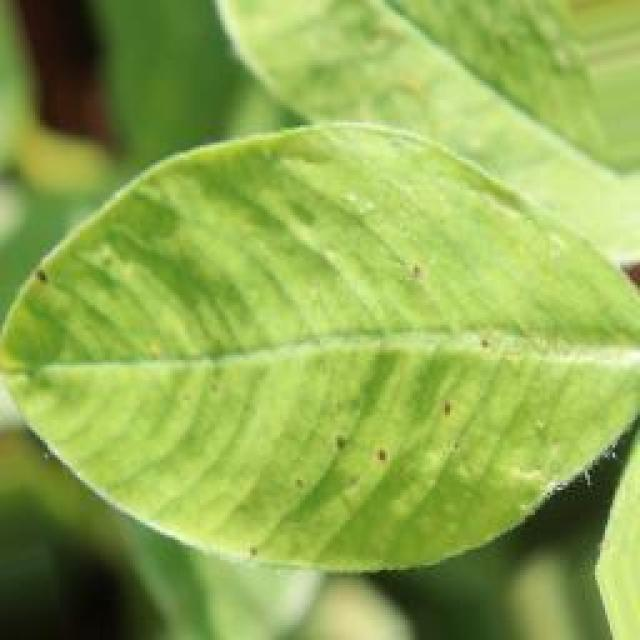Sigatoka: (444, 316, 519, 383), (421, 379, 483, 438), (330, 423, 389, 482), (282, 460, 337, 518), (228, 532, 274, 580), (390, 252, 436, 294), (23, 257, 65, 301)
